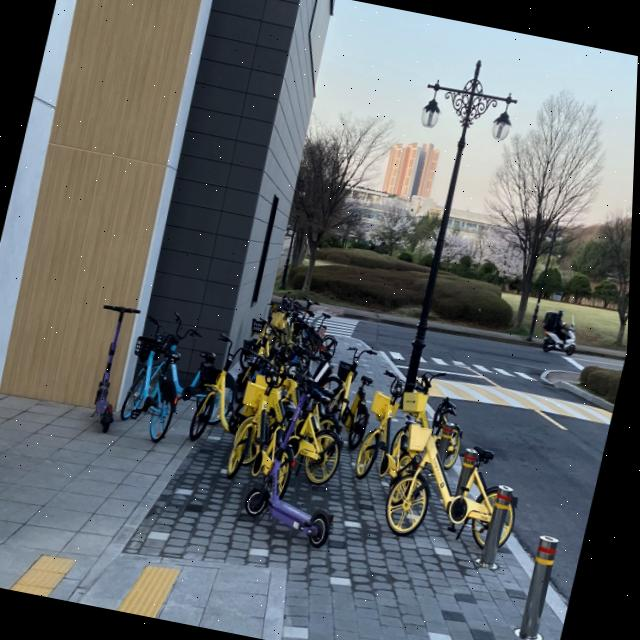crosswalk: (379, 337, 552, 397)
ebike_no: (374, 418, 544, 564)
kickboard_no: (227, 378, 361, 574)
kickboard_ok: (69, 294, 143, 438)
tactile_paving: (0, 542, 72, 600), (117, 554, 178, 620)
